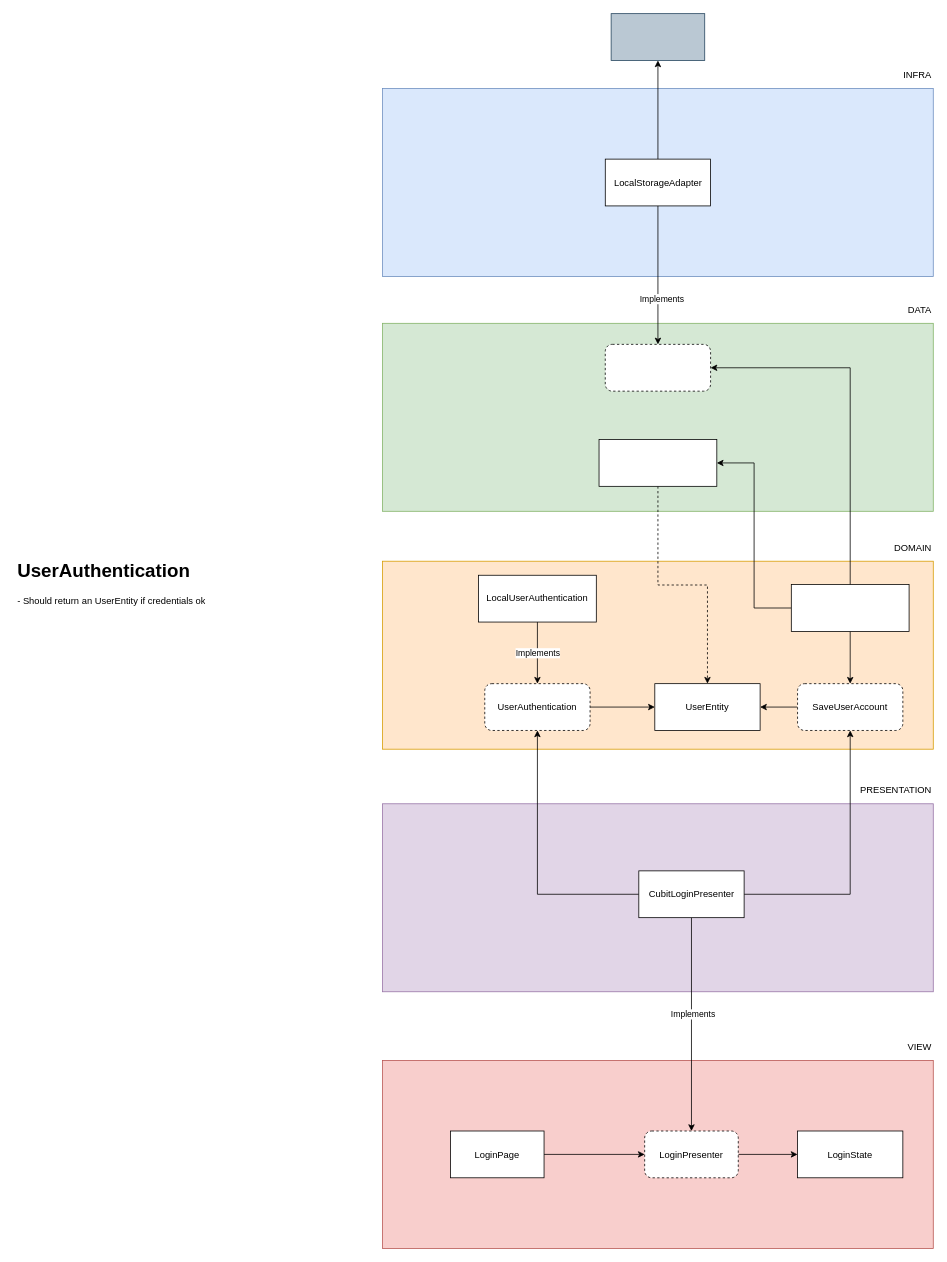
This 947x1262 diagram has some shape labels left out. Each missing label, with the box of its shape:
CacheStorage: (604, 344, 711, 391)
LocalSaveUserAccount: (791, 584, 909, 631)
LocalStorage: (610, 13, 705, 60)
UserModel: (598, 439, 717, 486)
